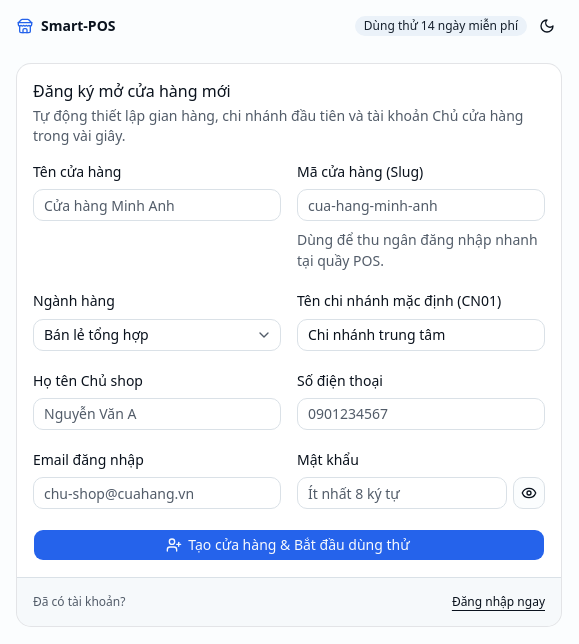
Scenario: Phase 1 Auth Pages › auto-slugifies shop name and redirects to /dashboard after tenant registration
Later steps or results of the test are not shown.
Type "Cửa Hàng Minh Anh" into the field labelled "Tên cửa hàng" at (157, 205), box [33, 189, 281, 221]
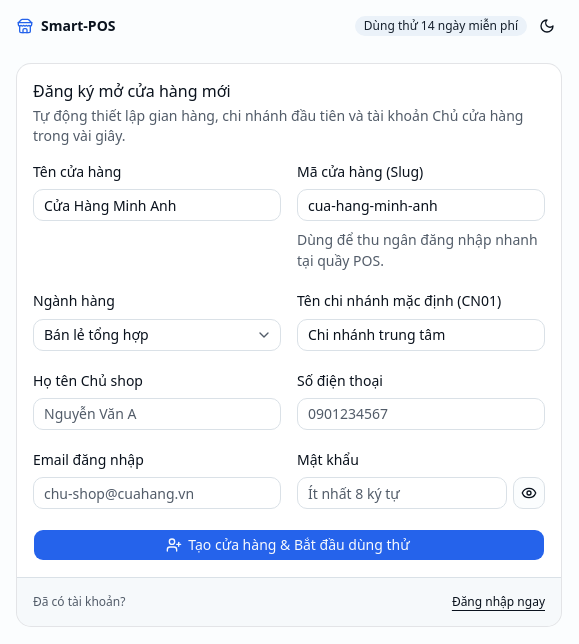
Check: the field labelled "Mã cửa hàng (Slug)" holds "cua-hang-minh-anh", box [297, 189, 545, 221]
